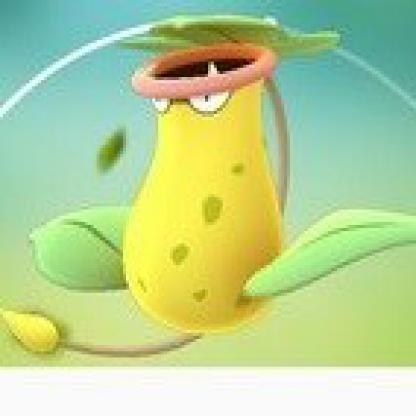Victreebel: (27, 16, 414, 343)
